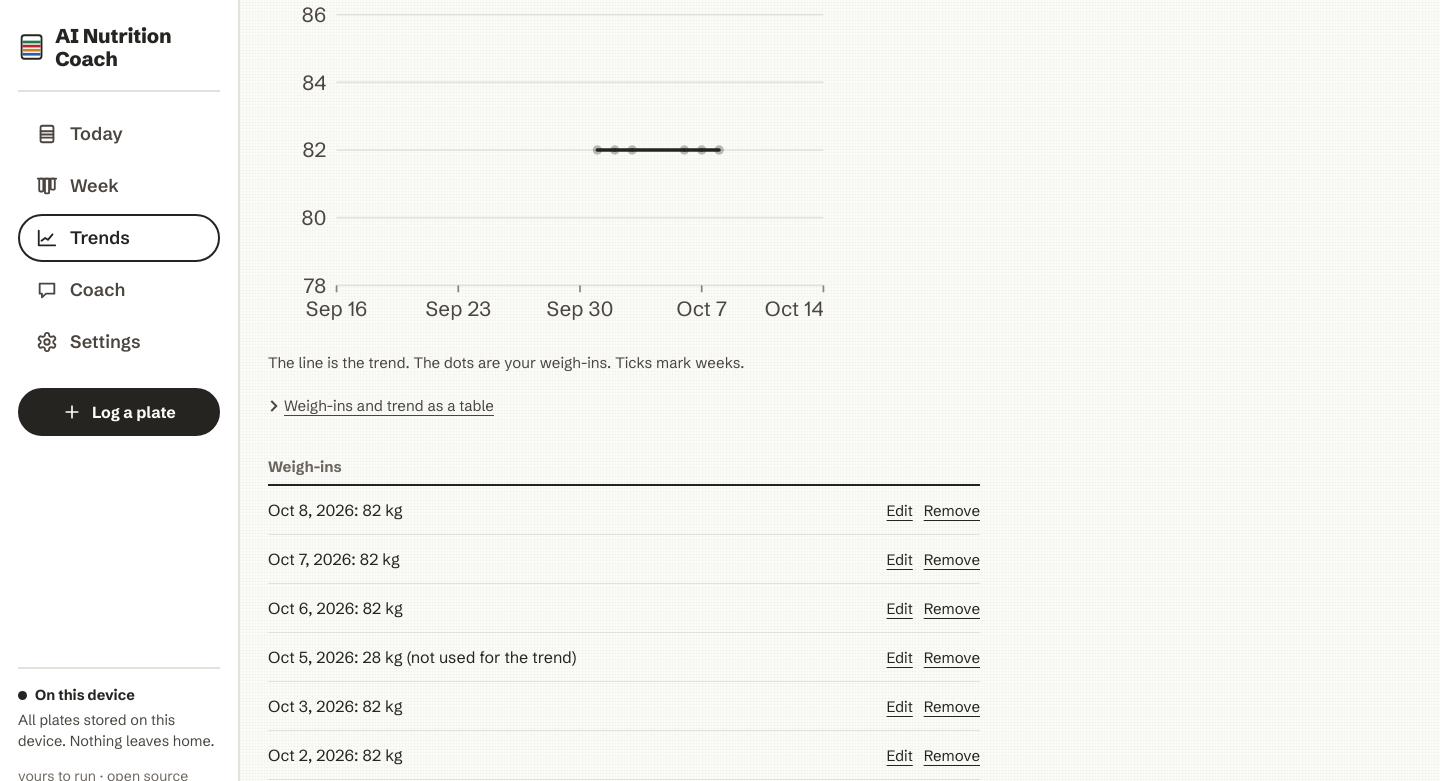
Test case: ProgressScreen: typing slips and gaps › leaves a 182 and a 28 out of the trend and the axis, lists them marked and editable
The image size is (1440, 781).
(page scrolled)
Check: the button with aria-label "Edit the weigh-in of Oct 5, 2026" is shown, box [876,633,924,681]
Note: And so does the accessible table.
Click the heading "Weigh-ins and trend as a table".
click(380, 405)  # box [266,396,494,415]
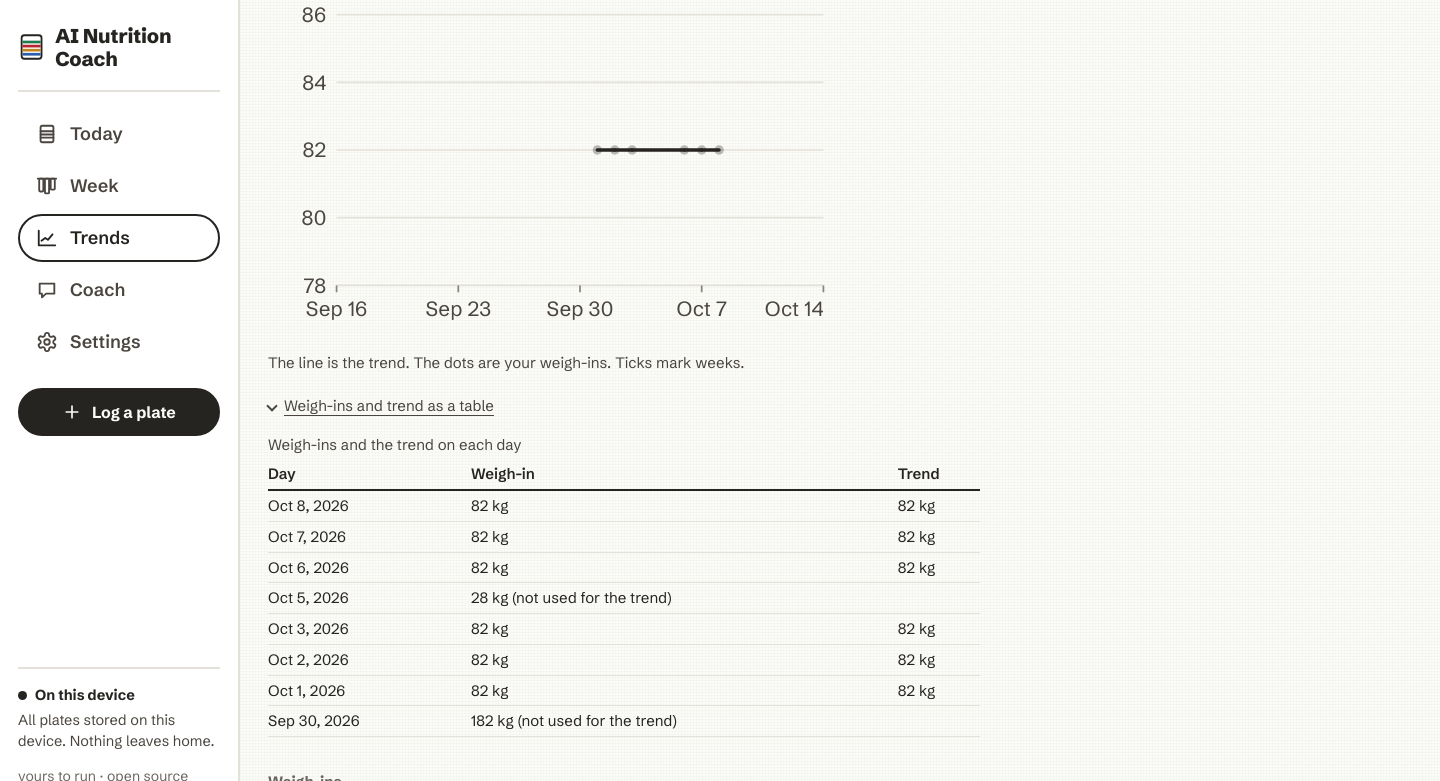
Check: the text "182 kg (not used for the trend)" is shown, box [471,706,898,737]
